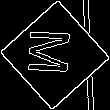M_E: (28, 30, 82, 80)
